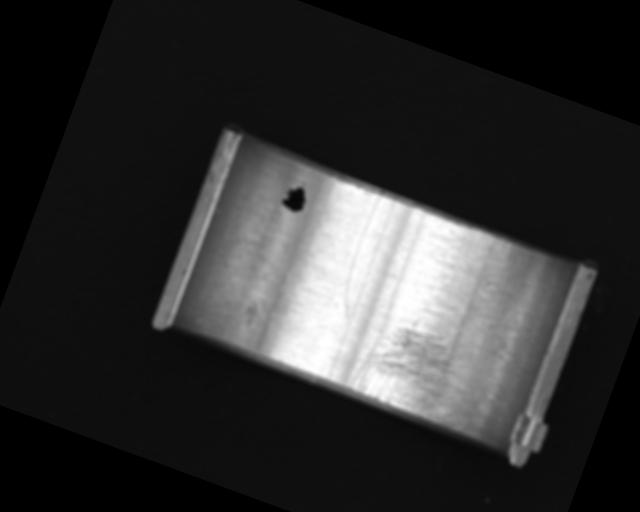blot: (278, 176, 313, 216)
bruise: (238, 300, 262, 330)
nick: (331, 191, 394, 321)
scratch: (344, 303, 490, 435)
